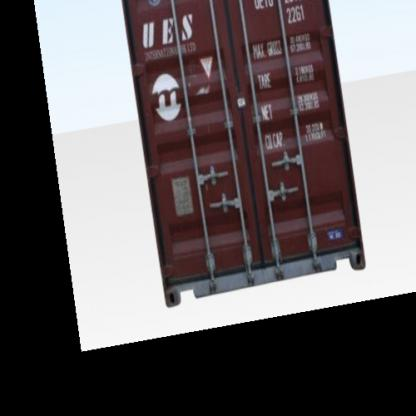Damage: (183, 55, 230, 95), (194, 118, 232, 139)
